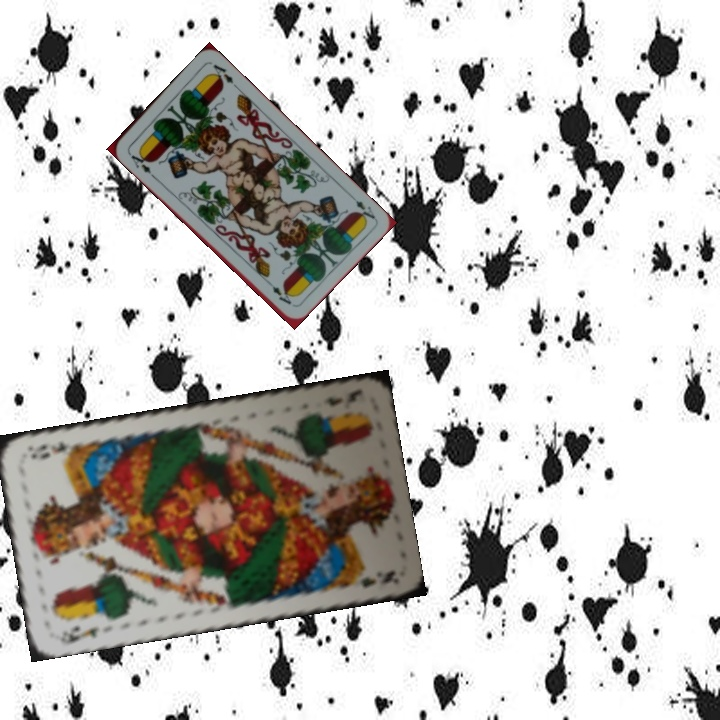EA: (345, 190, 378, 224), (124, 147, 157, 180)
EK: (56, 621, 102, 647), (320, 385, 365, 409)
